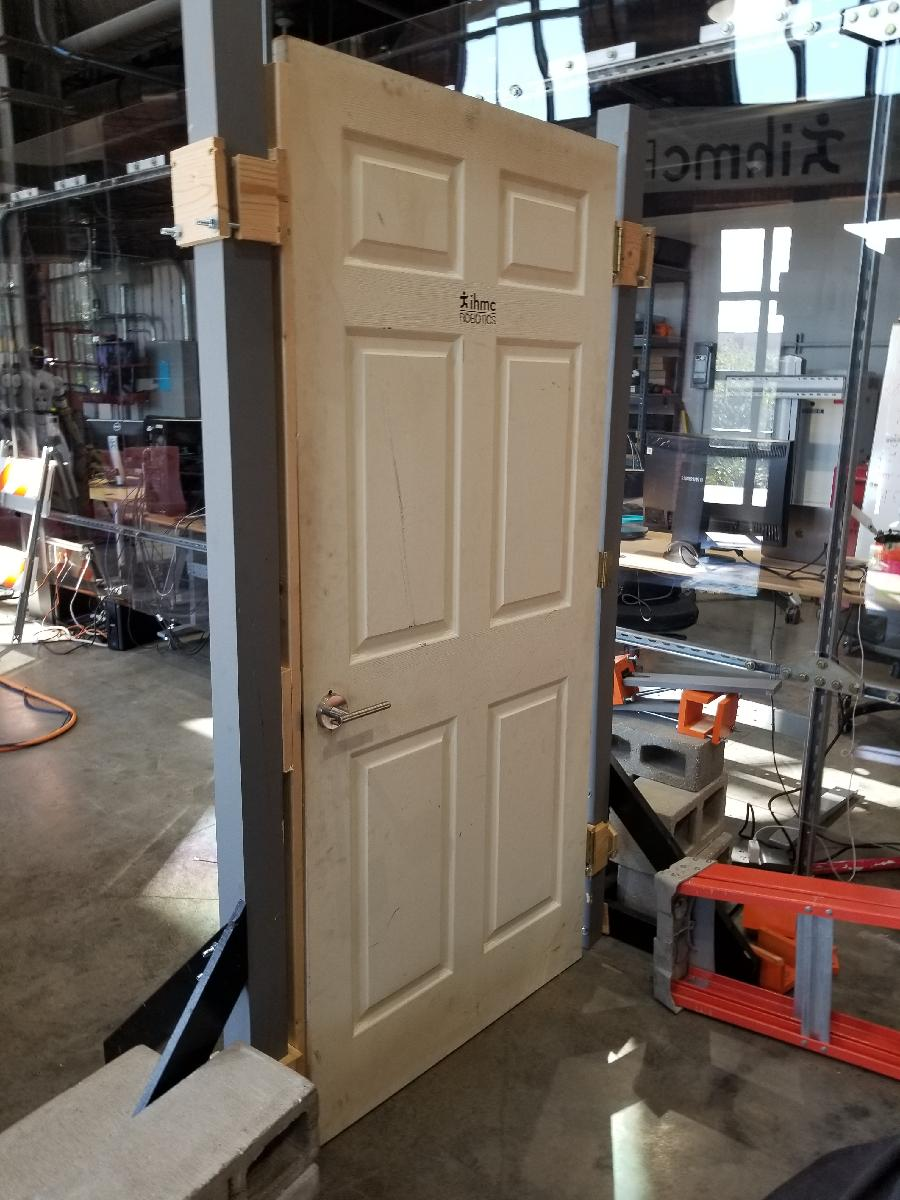door: (267, 34, 621, 1163)
doorHandle: (311, 689, 398, 740)
